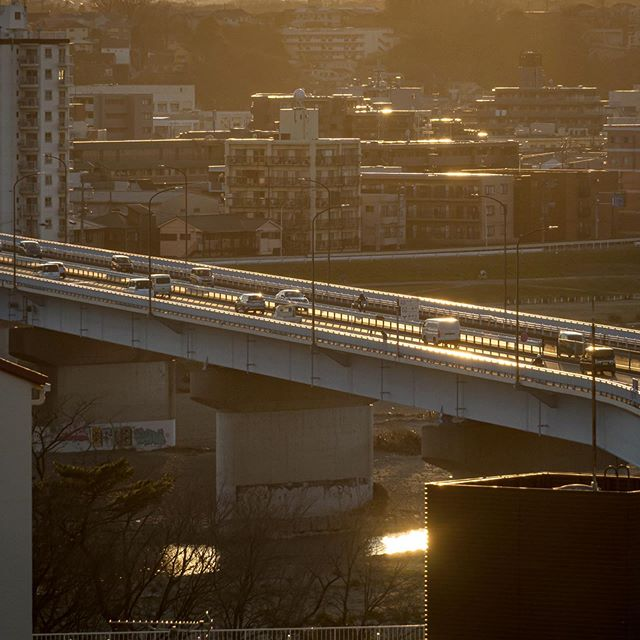bridge: (21, 237, 640, 522)
building: (223, 130, 375, 249), (1, 20, 79, 225), (378, 169, 516, 242), (63, 76, 201, 149), (283, 25, 399, 83), (497, 86, 613, 144)
car: (269, 286, 315, 312), (226, 287, 272, 313), (549, 328, 595, 354), (573, 345, 619, 371)
river: (35, 434, 563, 613)
van: (419, 309, 464, 353)
